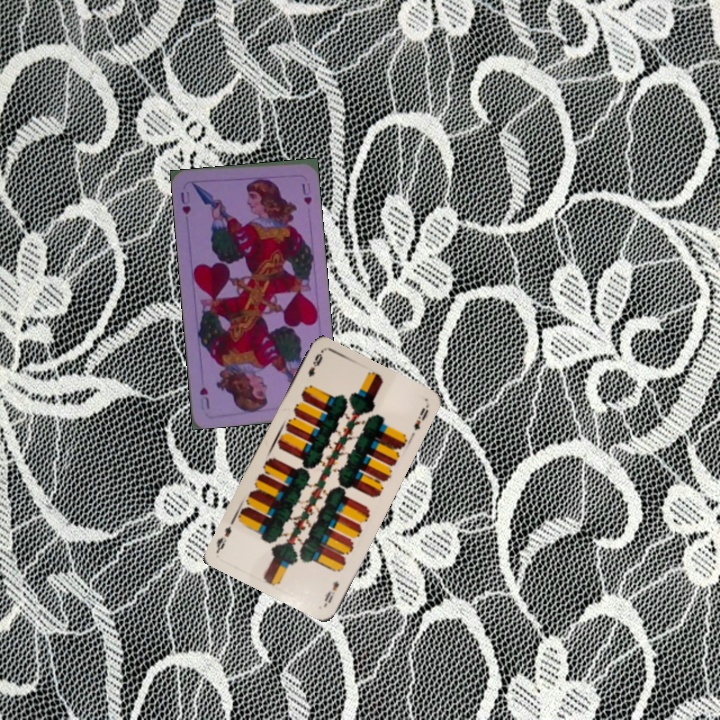E9: (320, 576, 342, 608), (304, 349, 325, 379)
HU: (177, 188, 193, 217)
